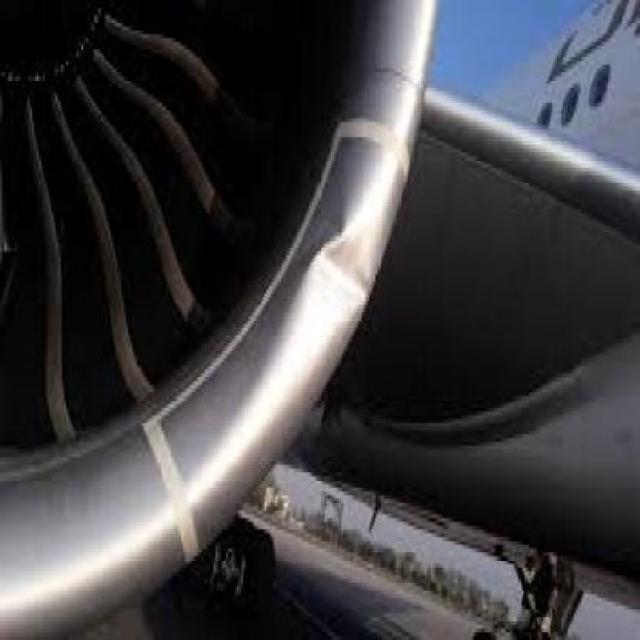dent: (303, 211, 374, 314)
